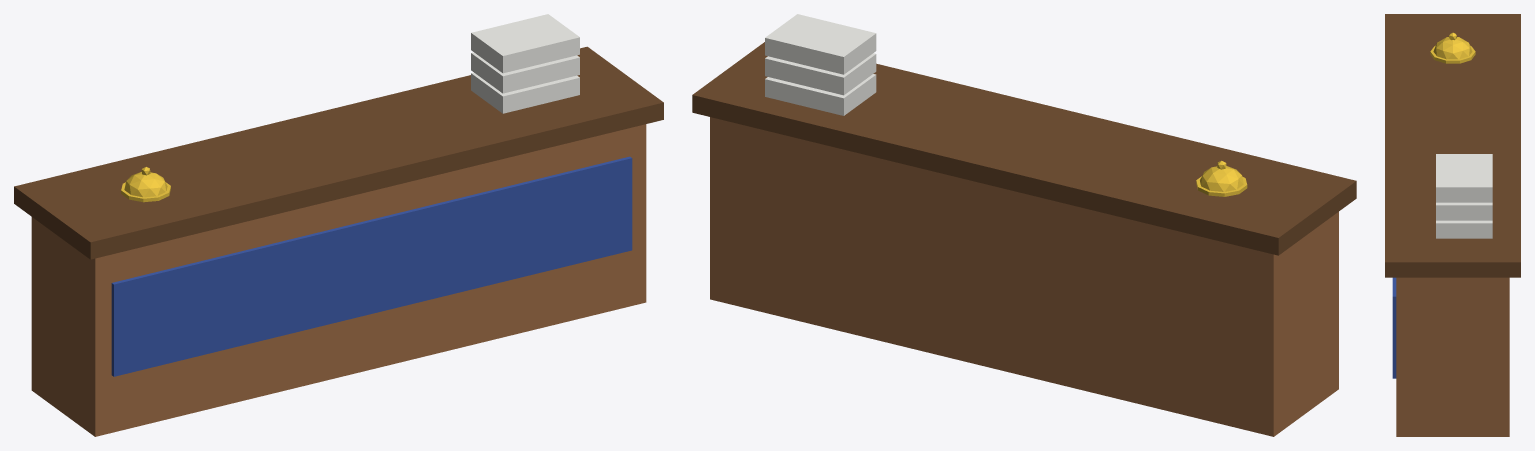
File: PostCounter.fbx
3 renders of one model, left to right at view 1: azimuth 30°, elevation 25°; view 2: azimuth 150°, elevation 25°; view 3: azimuth 270°, elevation 25°, orthographic. The views are drawn at different scales.
Parts seen in each view (by area): view 1: Desk, Panel, Top, Trays, Bell; view 2: Desk, Top, Trays, Bell; view 3: Top, Desk, Trays, Bell, Panel.
Boxes of the visible parts, x1,y1,x2,y2 form: Desk: (31,124,646,436); Panel: (111,156,632,376); Top: (14,46,663,259); Trays: (471,14,579,113); Bell: (121,167,170,202); Desk: (710,117,1338,436); Top: (692,42,1356,255); Trays: (765,14,876,115); Bell: (1196,160,1247,196); Top: (1385,14,1520,277); Desk: (1396,277,1509,436); Trays: (1436,154,1492,238); Bell: (1430,32,1475,63); Panel: (1392,277,1396,378).
Bounding box in the file's own units: 10.4 × 4.5 × 2.4.
